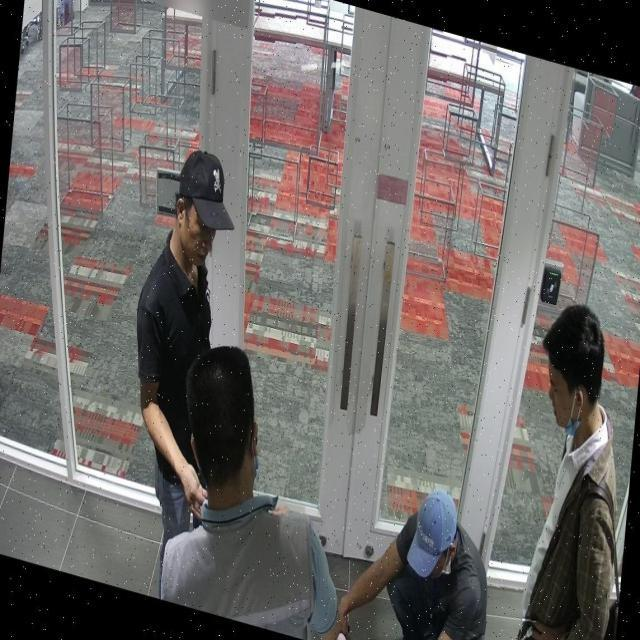hairnet: (548, 362, 584, 436)
